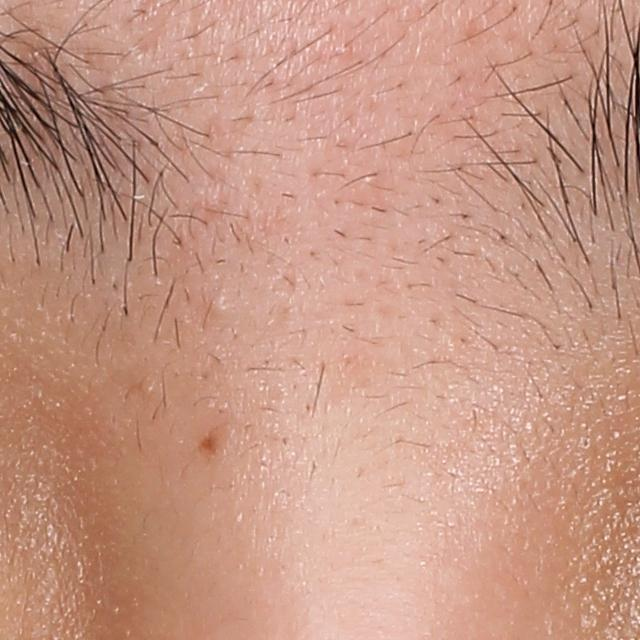comedo: (207, 291, 232, 315), (136, 377, 159, 398)
